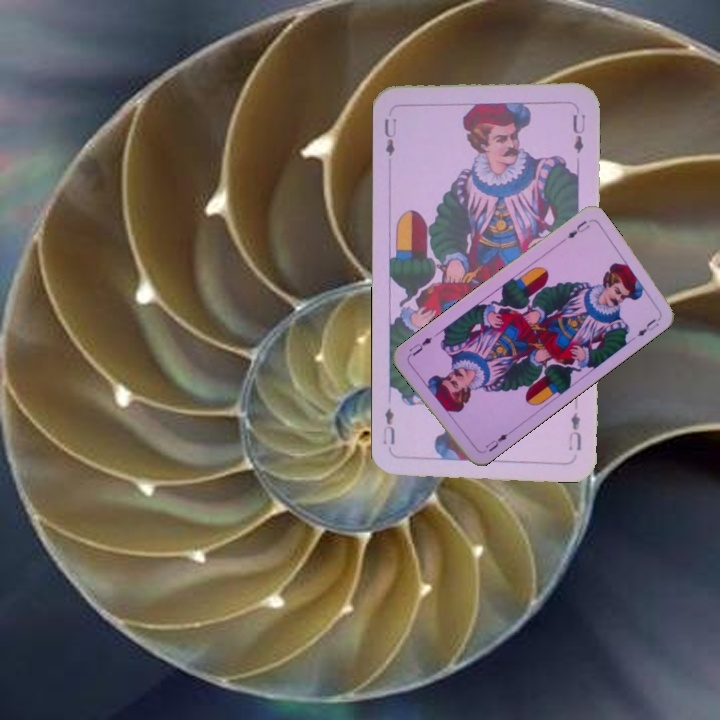EU: (564, 409, 584, 453), (380, 114, 399, 158), (481, 429, 510, 455), (563, 216, 592, 241)
